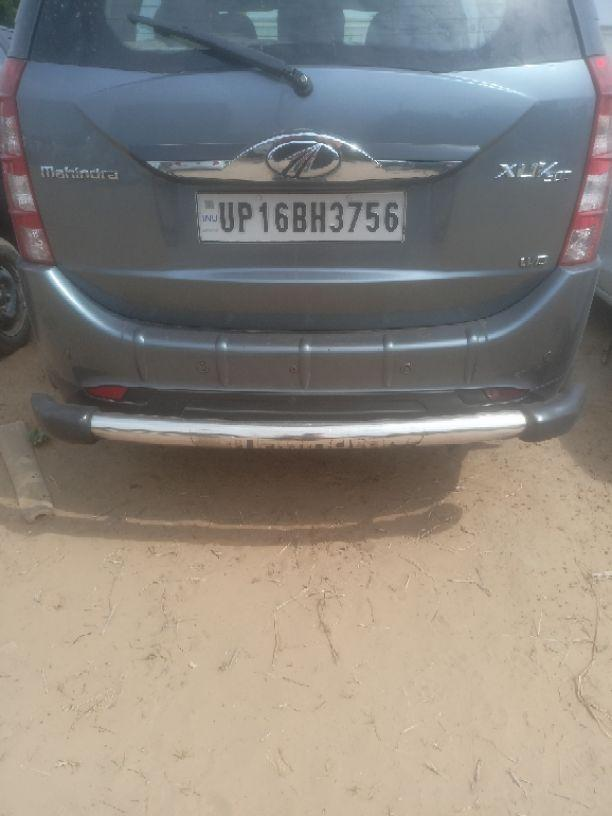license_plate: (194, 189, 407, 244)
